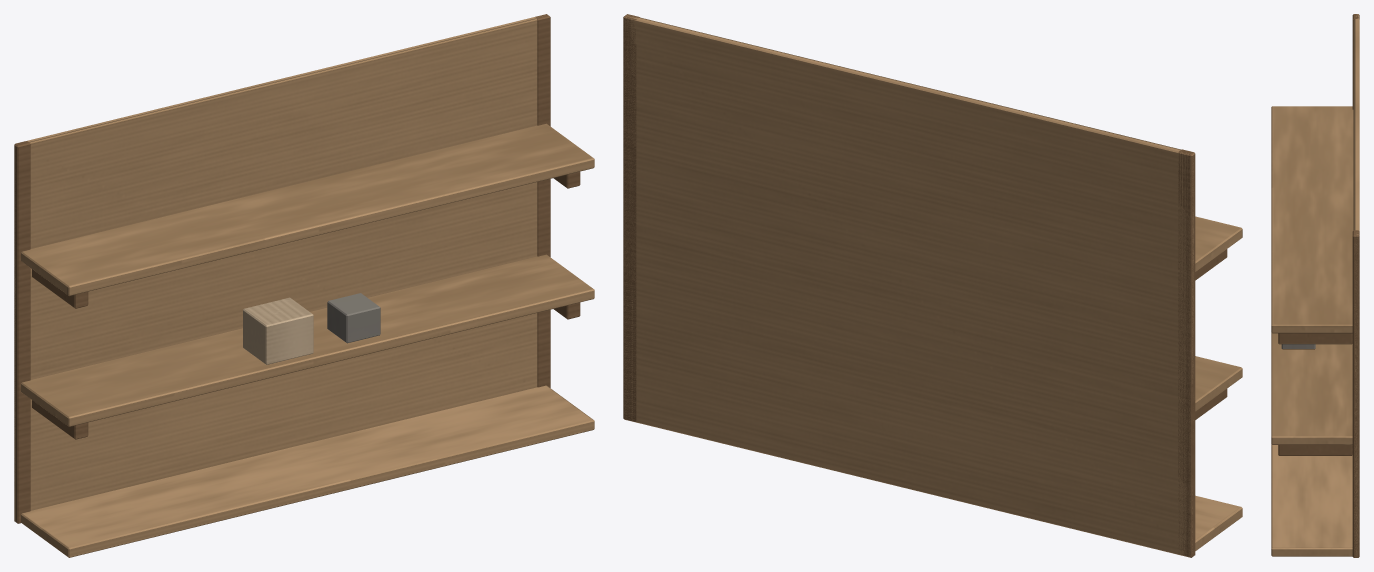
File: furn_shelf.glb
The picture shows the model from 3 angles, left to right: view 1: azimuth 30°, elevation 25°; view 2: azimuth 150°, elevation 25°; view 3: azimuth 270°, elevation 25°; orthographic projection. The views are drawn at different scales.
Visible parts, largest first — view 1: furn_shelf; view 2: furn_shelf; view 3: furn_shelf.
Part boxes in pixels (x1,y1,x2,y2): furn_shelf: [14, 14, 594, 557]; furn_shelf: [623, 14, 1242, 557]; furn_shelf: [1271, 14, 1359, 557].
Bounding box in the file's own units: 1.55 × 1.05 × 0.26.
Materials: 1 (1 with a texture image).
